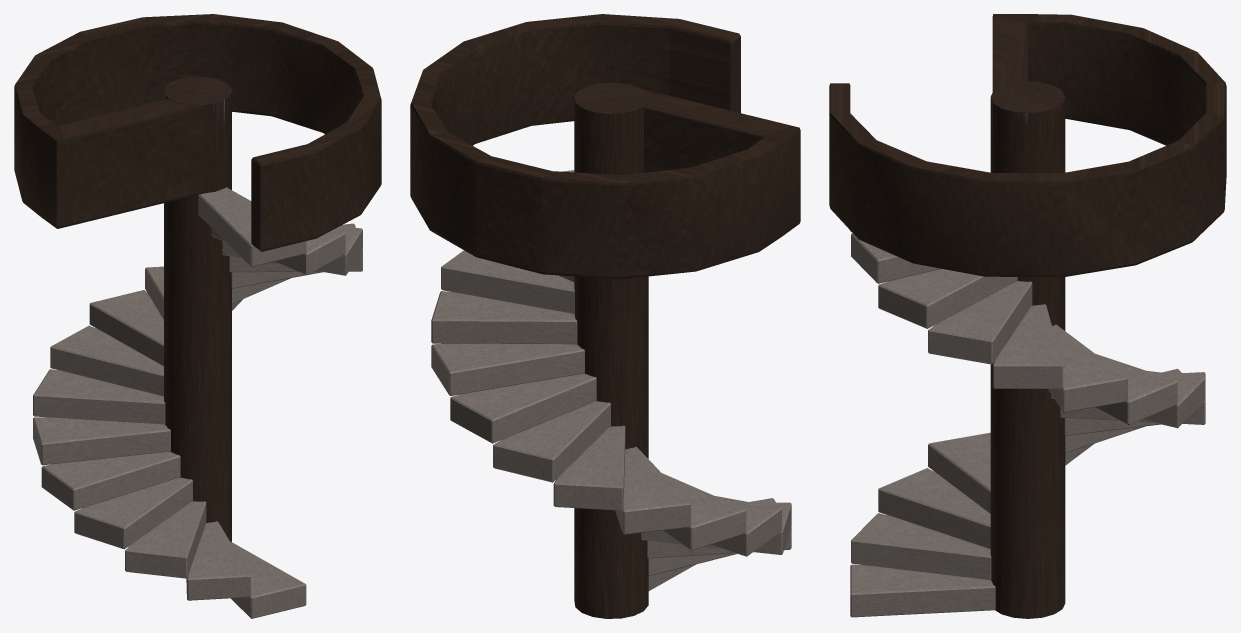
The model's file is OutdoorArchitecture_SingleObjects_SpiralStaircase_BShortt.fbx.
3 views of the same model, side by side, from view 1: azimuth 30°, elevation 25°; view 2: azimuth 150°, elevation 25°; view 3: azimuth 270°, elevation 25° (orthographic). The views are drawn at different scales.
Parts seen in each view (by area): view 1: OutdoorArchitecture_SignleObjects_SpiralStaircase_BShortt1; view 2: OutdoorArchitecture_SignleObjects_SpiralStaircase_BShortt1; view 3: OutdoorArchitecture_SignleObjects_SpiralStaircase_BShortt1.
Boxes of the visible parts, x1,y1,x2,y2 form: OutdoorArchitecture_SignleObjects_SpiralStaircase_BShortt1: (14,14,381,618); OutdoorArchitecture_SignleObjects_SpiralStaircase_BShortt1: (410,14,800,618); OutdoorArchitecture_SignleObjects_SpiralStaircase_BShortt1: (829,14,1226,618).
Bounding box in the file's own units: 413 × 580 × 413.
